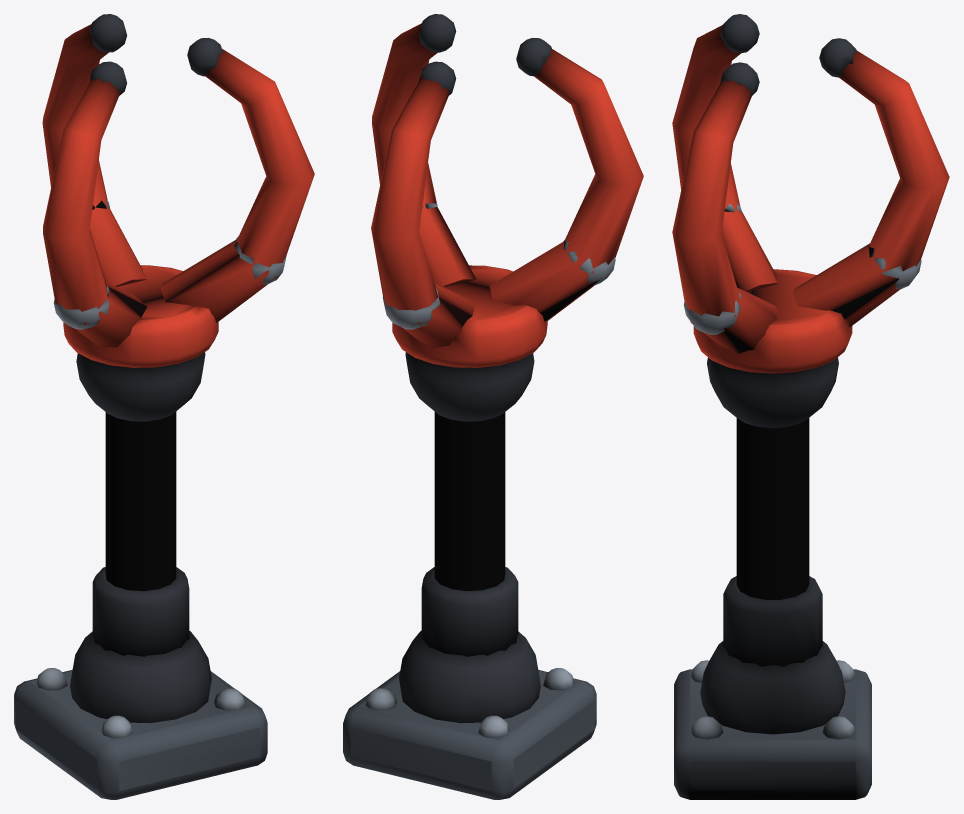
Rendered from part_grapple.glb.
3 renders of one model, left to right at view 1: azimuth 30°, elevation 25°; view 2: azimuth 150°, elevation 25°; view 3: azimuth 270°, elevation 25°, orthographic.
Visible parts, largest first — view 1: grapple_claw_mesh, grapple_base, grapple_arm_mesh; view 2: grapple_claw_mesh, grapple_base, grapple_arm_mesh; view 3: grapple_claw_mesh, grapple_base, grapple_arm_mesh.
Part boxes in pixels (bbox=[...]): grapple_claw_mesh: bbox=[42, 14, 314, 421]; grapple_base: bbox=[14, 631, 267, 799]; grapple_arm_mesh: bbox=[92, 411, 189, 656]; grapple_claw_mesh: bbox=[371, 14, 643, 421]; grapple_base: bbox=[343, 630, 596, 799]; grapple_arm_mesh: bbox=[421, 412, 518, 656]; grapple_claw_mesh: bbox=[672, 14, 949, 428]; grapple_base: bbox=[674, 641, 871, 799]; grapple_arm_mesh: bbox=[723, 418, 822, 666].
Size of the model in its own units: 0.4717 by 1.21 by 0.4198.
